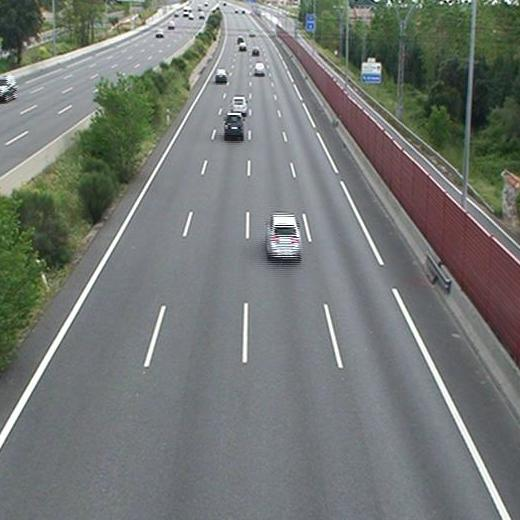car: (266, 214, 301, 258), (224, 113, 243, 135), (231, 96, 248, 113), (215, 69, 228, 82), (254, 63, 266, 74), (239, 42, 247, 50), (252, 48, 260, 56)
